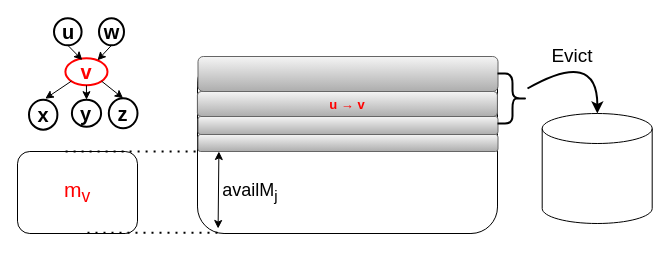
Image size: 670x255. Some labels were removed from this diagram. The centre of each missing label's shape, as x and y in pixels:
a → b: (347,74)
a →s: (347,125)
Comm. buffer: (596,168)
m →j: (347,143)
